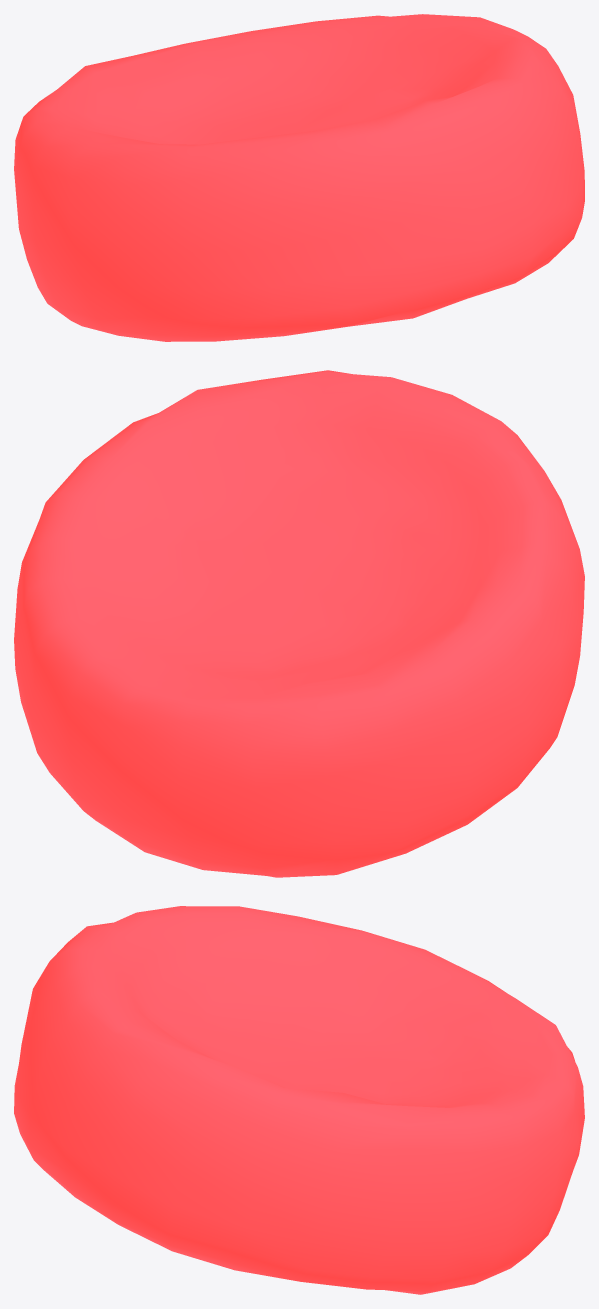
File: red blood cells3.fbx
3 renders of one model, top to bottom at view 1: azimuth 30°, elevation 25°; view 2: azimuth 150°, elevation 25°; view 3: azimuth 270°, elevation 25°, orthographic. The views are drawn at different scales.
Parts seen in each view (by area): view 1: Cylinder.004; view 2: Cylinder.004; view 3: Cylinder.004.
Boxes of the visible parts, x1,y1,x2,y2 form: Cylinder.004: (14,14,584,341); Cylinder.004: (14,370,584,877); Cylinder.004: (14,906,584,1294).
Bounding box in the file's own units: 77.48 × 45.39 × 81.45.
